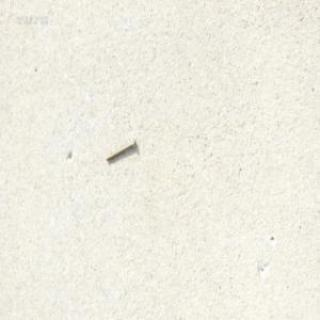Bolttrack_idkeyframe: (105, 136, 136, 162)
